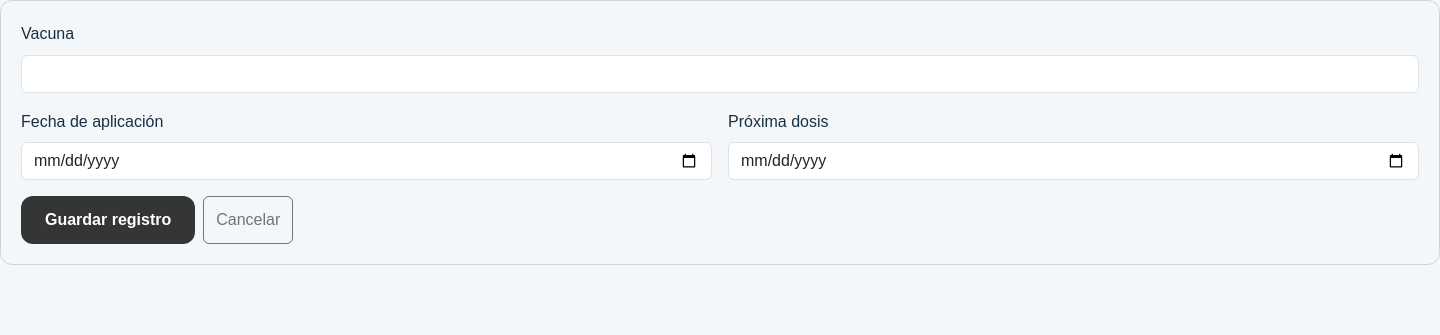
Test: FormularioRegistroClinico (vacunas y desparasitaciones) › exige nombre, fecha de aplicación y próxima dosis
This screenshot has width=1440, height=335.
Step 1. Click the button "Guardar registro" → coordinates (108, 220), box 21,196 -> 195,244
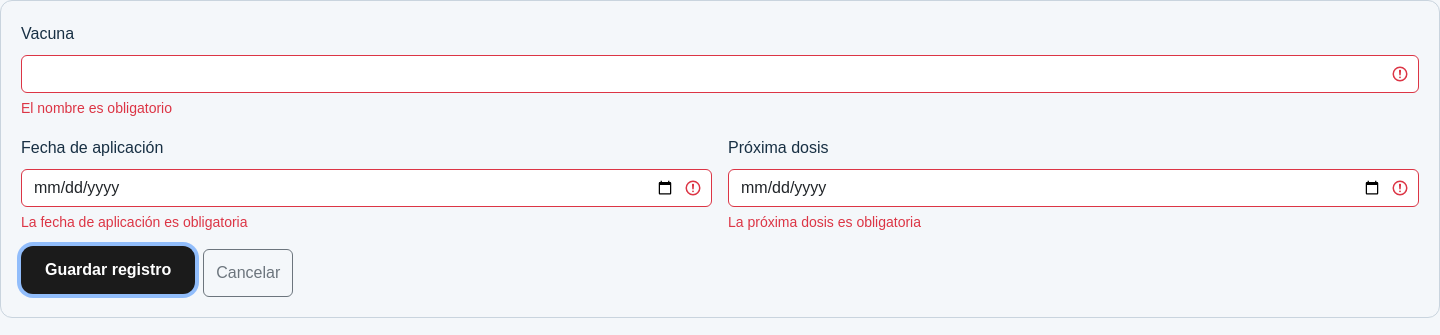
Check: the text "El nombre es obligatorio" is shown, box 21,100 -> 172,116
Check: the text "La fecha de aplicación es obligatoria" is shown, box 21,214 -> 248,230
Check: the text "La próxima dosis es obligatoria" is shown, box 728,214 -> 921,230
